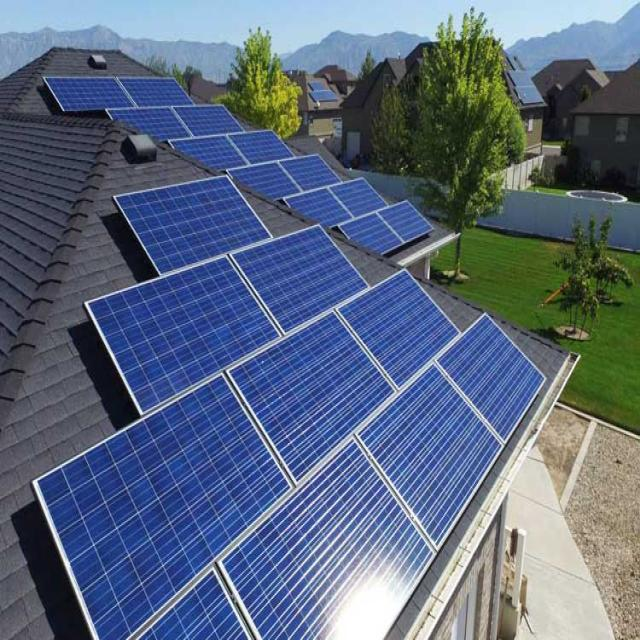clean-solar-panel: (32, 176, 545, 639)
